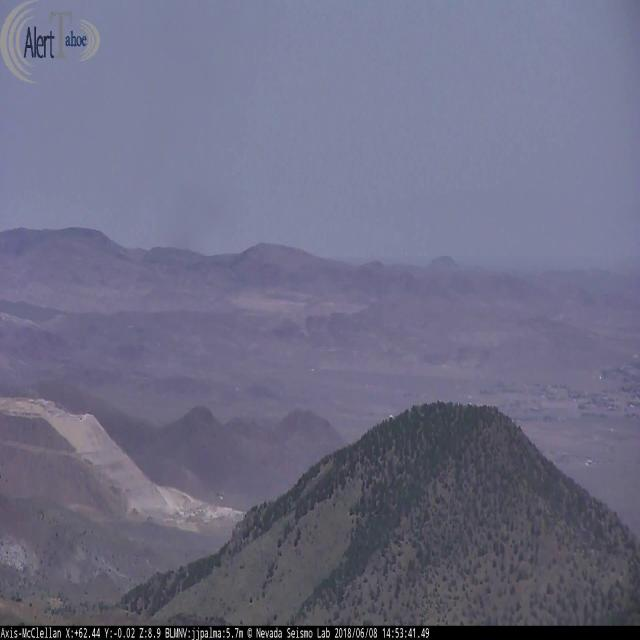smoke: (158, 184, 224, 252)
